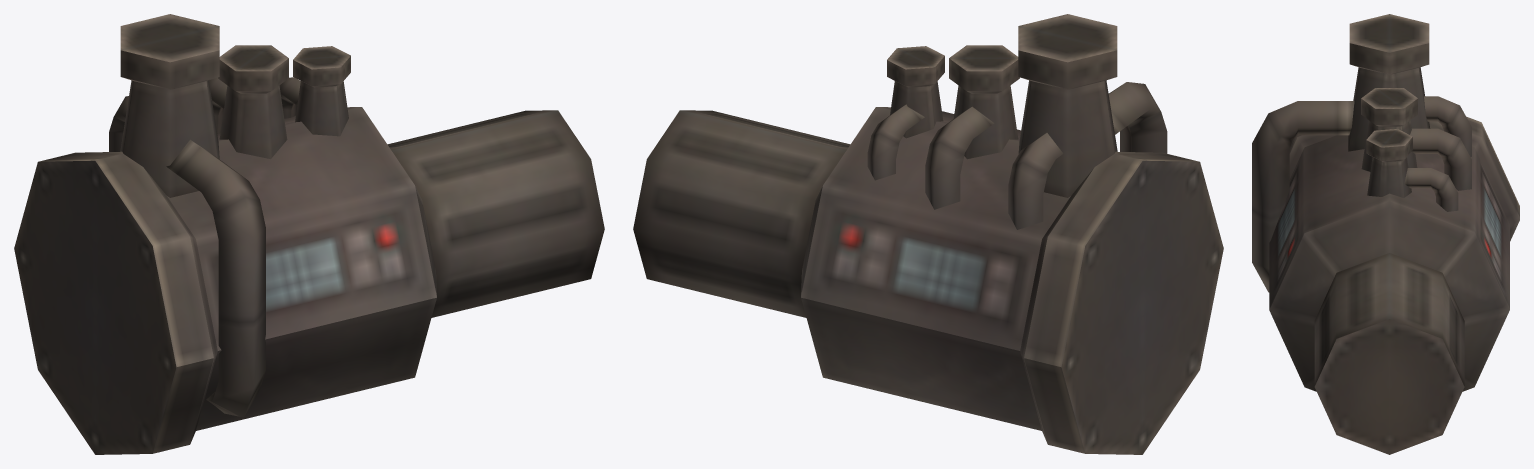
The model's file is power_plant.FBX.
The picture shows the model from 3 angles, left to right: view 1: azimuth 30°, elevation 25°; view 2: azimuth 150°, elevation 25°; view 3: azimuth 270°, elevation 25°; orthographic projection. The views are drawn at different scales.
Visible parts, largest first — view 1: Object009; view 2: Object009; view 3: Object009.
Boxes of the visible parts, x1,y1,x2,y2 form: Object009: (14,14,604,454); Object009: (633,14,1223,454); Object009: (1252,14,1519,454).
Size of the model in its own units: 22.99 by 18.92 by 14.35.
